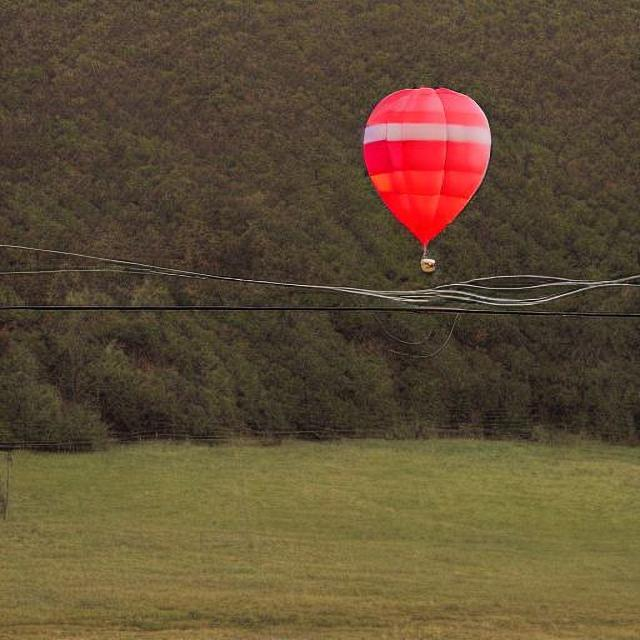balloon: (353, 82, 491, 270)
